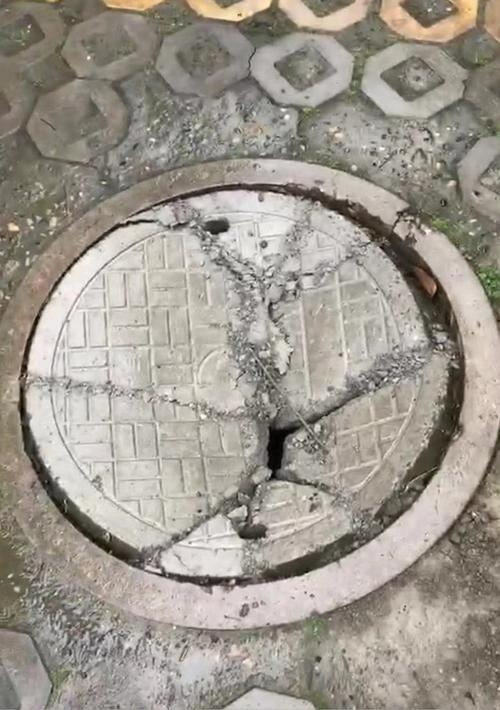broke: (16, 166, 490, 635)
